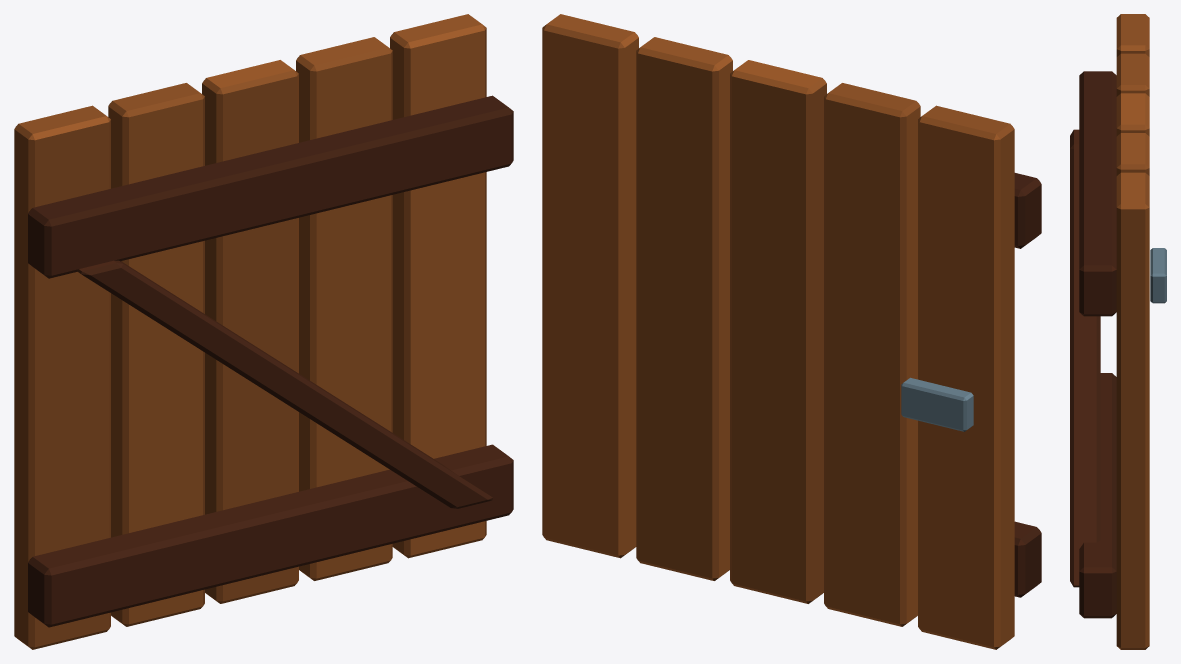
File: D04_Gate_Leaf_1m.fbx
3 renders of one model, left to right at view 1: azimuth 30°, elevation 25°; view 2: azimuth 150°, elevation 25°; view 3: azimuth 270°, elevation 25°, orthographic. The views are drawn at different scales.
Visible parts, largest first — view 1: D04_Gate_Leaf_1m; view 2: D04_Gate_Leaf_1m; view 3: D04_Gate_Leaf_1m.
Part boxes in pixels (left/top/right/bottom): D04_Gate_Leaf_1m: left=14, top=14, right=513, bottom=649; D04_Gate_Leaf_1m: left=542, top=14, right=1041, bottom=649; D04_Gate_Leaf_1m: left=1070, top=14, right=1166, bottom=649.
Size of the model in its own units: 1 by 1.05 by 0.2065.
3 materials, 3 textured.
